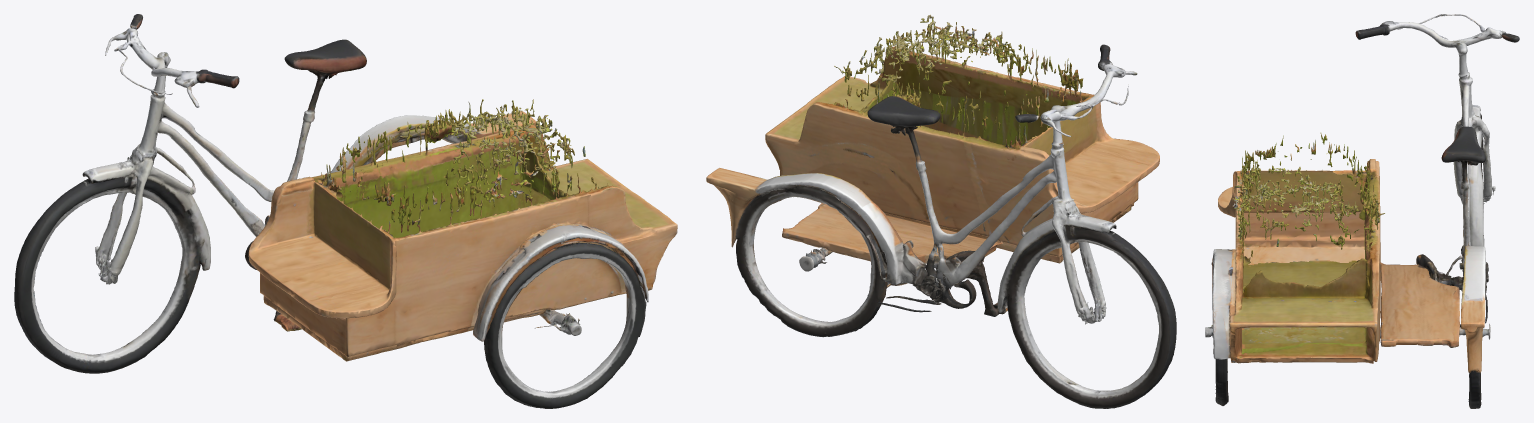
The model's file is bike.glb.
3 views of the same model, side by side, from view 1: azimuth 30°, elevation 25°; view 2: azimuth 150°, elevation 25°; view 3: azimuth 270°, elevation 25° (orthographic). The views are drawn at different scales.
Size of the model in its own units: 2 by 1.24 by 1.29.
Materials: 1 (1 with a texture image).
